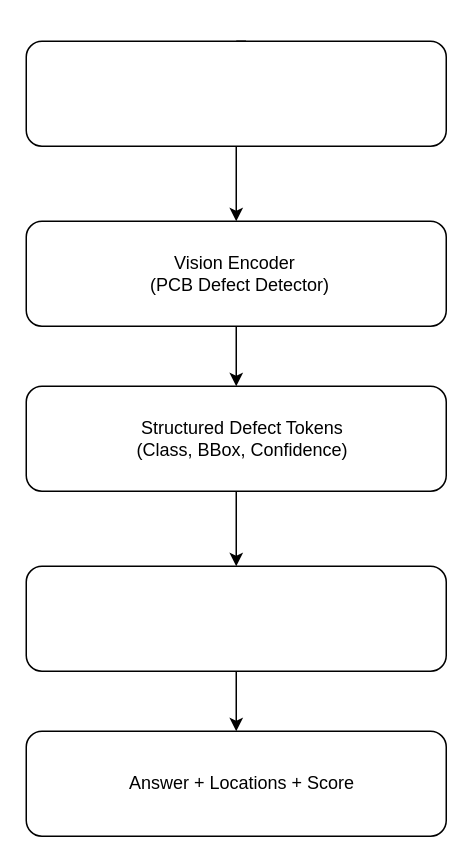
Image size: 473x863. Some labels were removed from this diagram. The shapes that lost their labels are listed below. From the top down, each one's box as (x1, y1, x2, y2) in pixels, then its label:
(25, 40, 446, 146): Input Image
(25, 565, 446, 671): Lightweight LLM (Reasoning Only)
